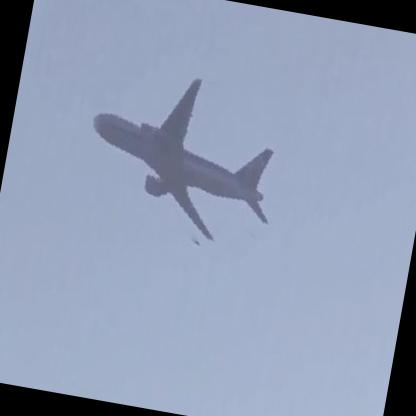plane: (73, 54, 301, 266)
